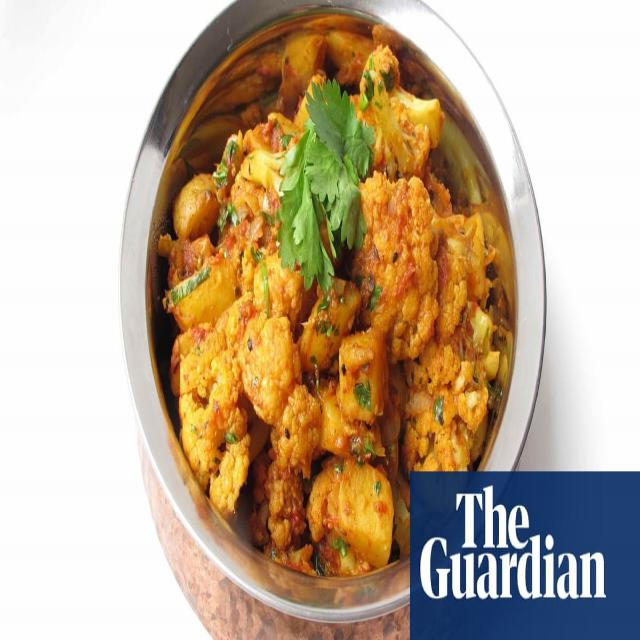Aloo Gobi: (168, 19, 468, 570)
